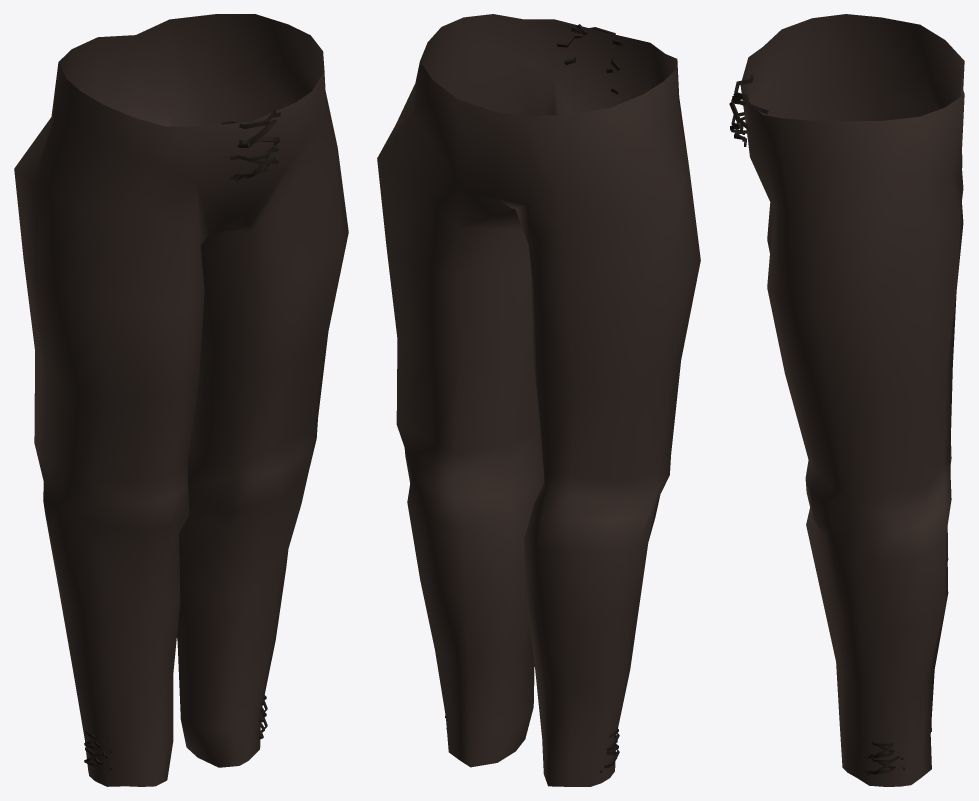
The model's file is pants.fbx.
The picture shows the model from 3 angles, left to right: view 1: azimuth 30°, elevation 25°; view 2: azimuth 150°, elevation 25°; view 3: azimuth 270°, elevation 25°; orthographic projection. The views are drawn at different scales.
Visible parts, largest first — view 1: pasted__group1_pasted__pasted__group_pasted__pasted__pasted_; view 2: pasted__group1_pasted__pasted__group_pasted__pasted__pasted_; view 3: pasted__group1_pasted__pasted__group_pasted__pasted__pasted_.
Boxes of the visible parts, x1,y1,x2,y2 form: pasted__group1_pasted__pasted__group_pasted__pasted__pasted_: (14,14,348,786); pasted__group1_pasted__pasted__group_pasted__pasted__pasted_: (377,14,700,786); pasted__group1_pasted__pasted__group_pasted__pasted__pasted_: (729,14,964,786).
Size of the model in its own units: 16.09 by 37.41 by 11.68.
2 materials, 2 textured.
